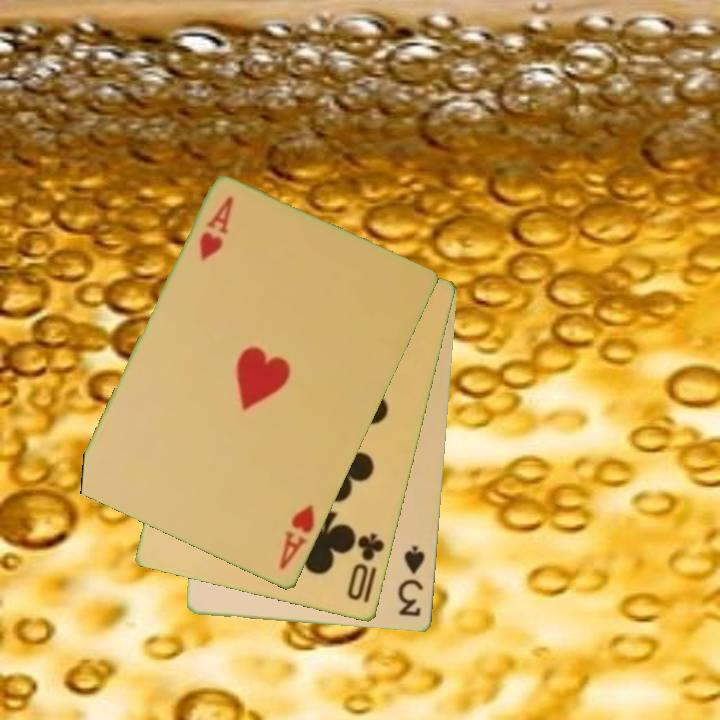10c: (343, 530, 388, 604)
3s: (395, 542, 428, 620)
Ah: (275, 501, 319, 573), (196, 193, 237, 265)
